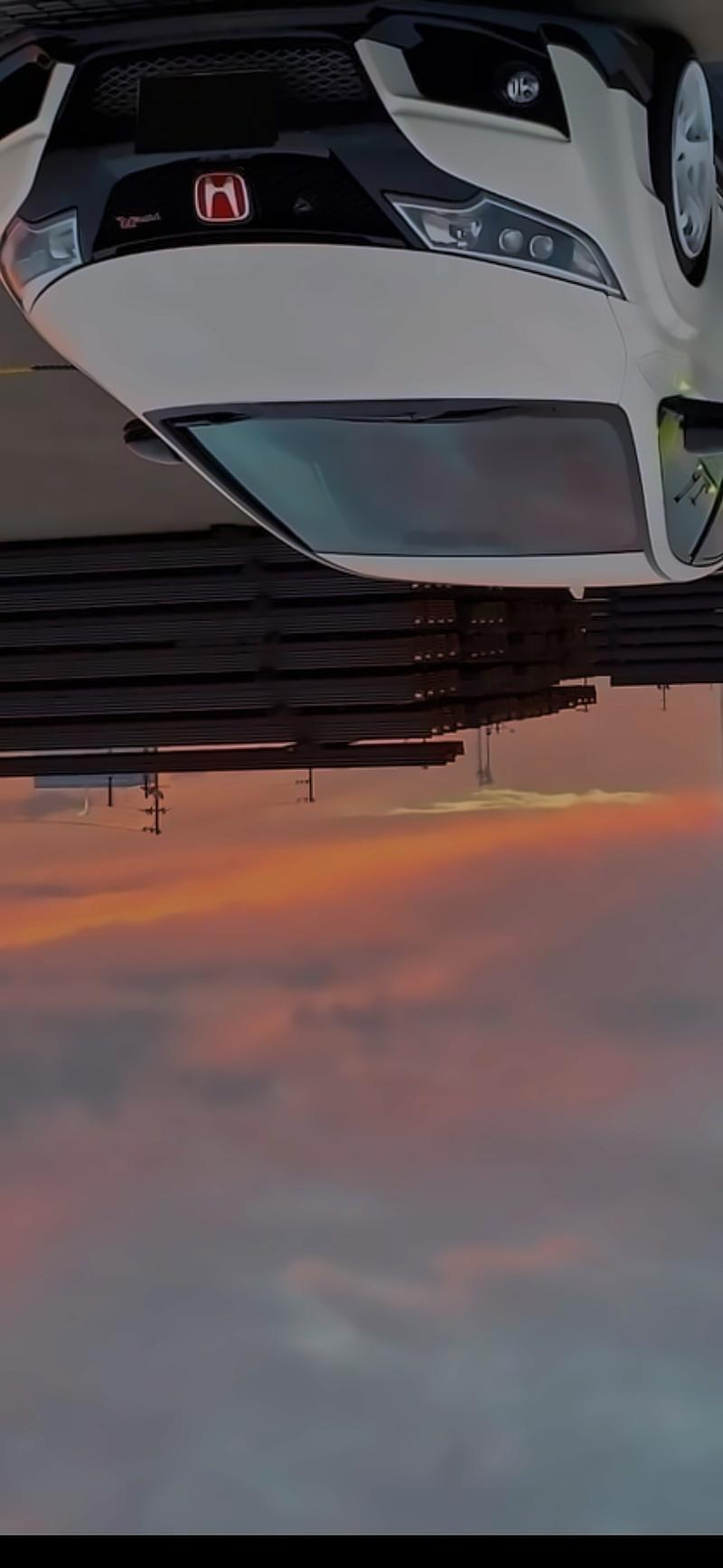Car hood: (30, 242, 634, 424)
Front bumper: (0, 0, 659, 233)
Headlight - -L-: (0, 199, 84, 320)
Headlight - -R-: (387, 186, 626, 302)
